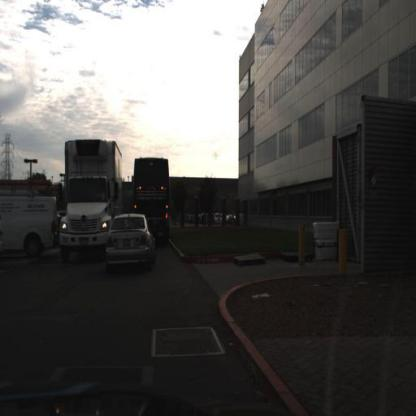car: (0, 191, 58, 260), (102, 209, 151, 274)
truck: (58, 135, 122, 264), (130, 154, 171, 241)
